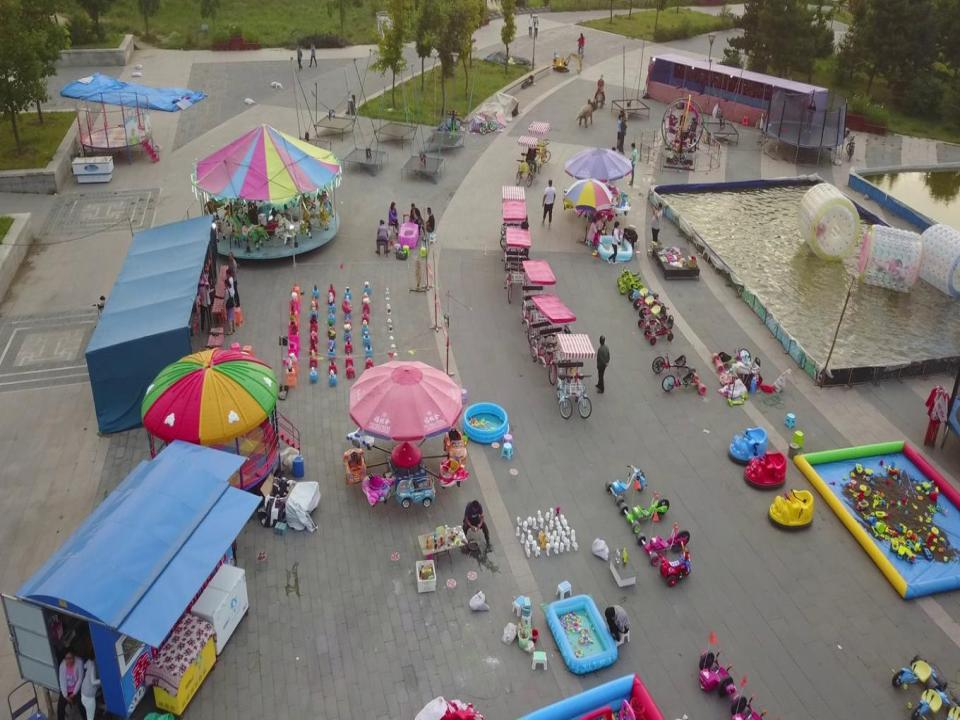car: (616, 115, 622, 150)
